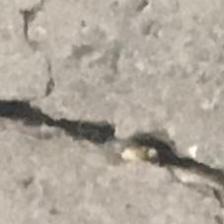Crack: (0, 77, 224, 198)
